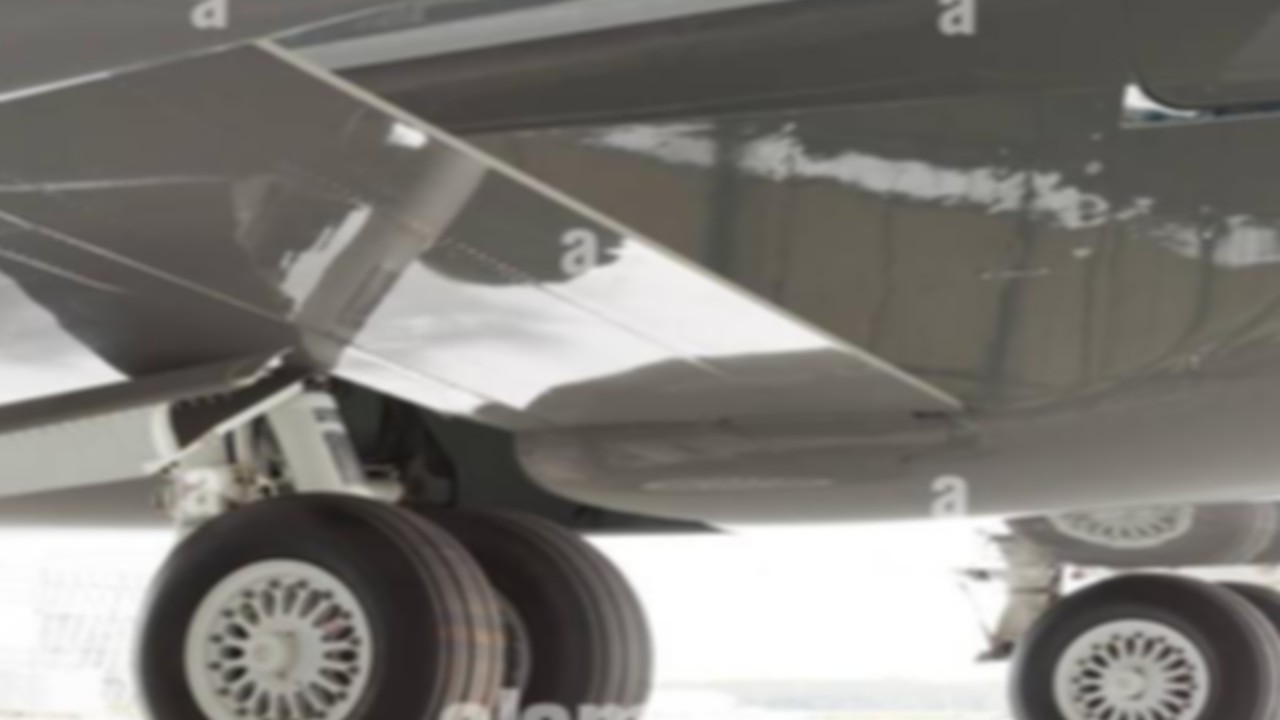wheel: (123, 491, 492, 720), (402, 512, 651, 720), (1003, 570, 1280, 720), (1185, 581, 1280, 720)
